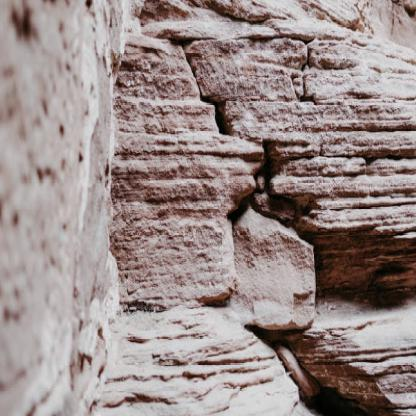Sedimentary_Sandstone: (113, 28, 256, 321), (184, 34, 416, 162), (221, 189, 324, 341)
